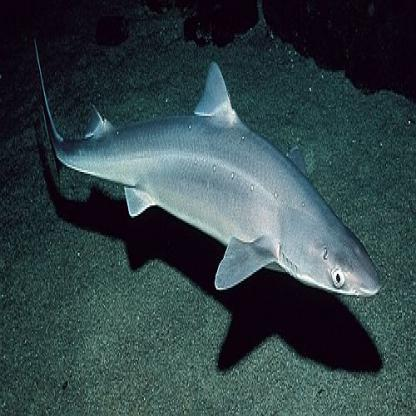shark: (32, 31, 385, 308)
